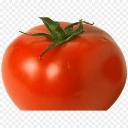tomato: (2, 22, 128, 111)
